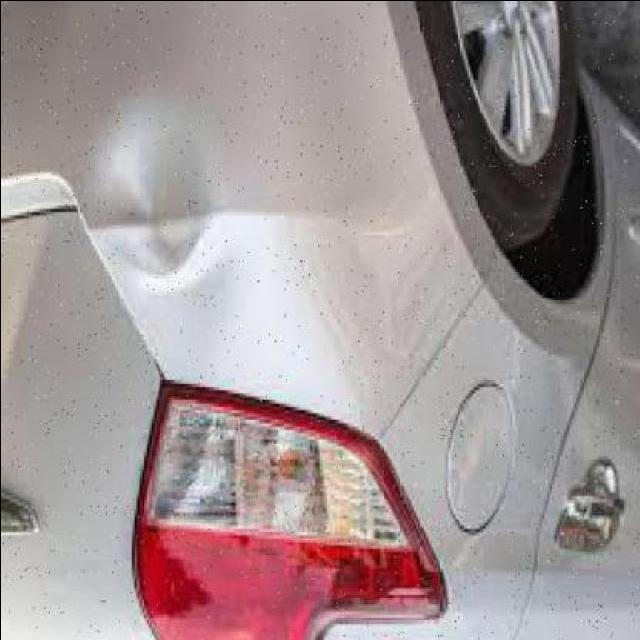rear-bumper-dent: (22, 2, 516, 349)
